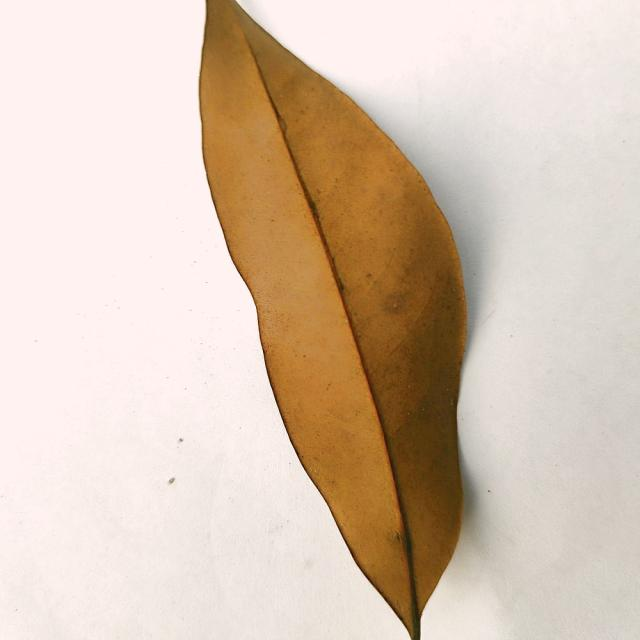Dry_Leaf-Lychee: (197, 0, 468, 639)
